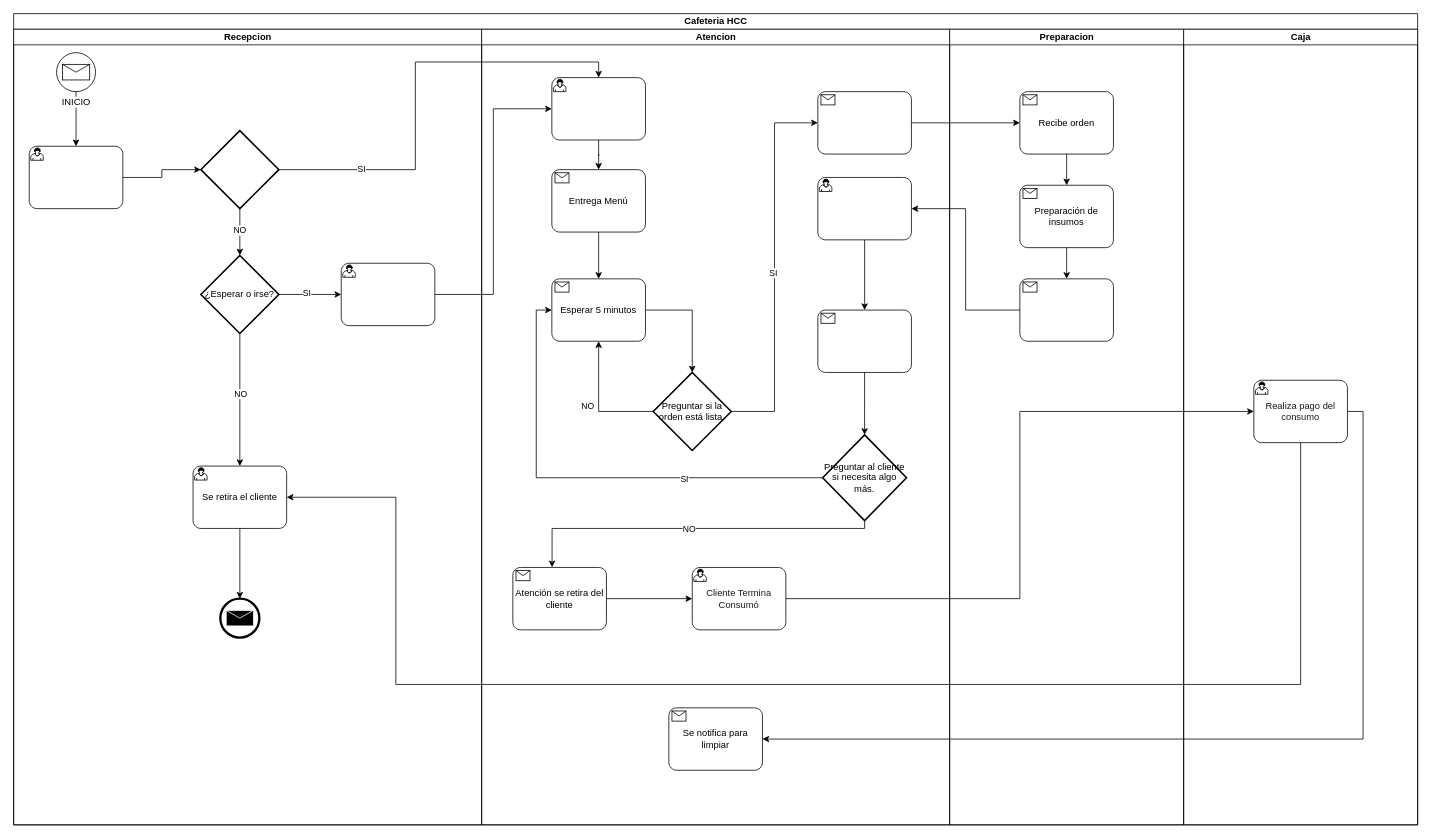
This 1431x838 diagram has some shape labels left out. Each missing label, with the centre of its shape:
Asignar mesa: the point at 598,108
Cliente llega a la cafetería.: the point at 75,177
Entrega orden a cliente: the point at 864,208
Espera cliente a liberar especio: the point at 387,294
Esperar 20 minutos: the point at 864,340
FIn: the point at 239,618
Levantar orden: the point at 864,122
Notificar a atención que la orden está lista.: the point at 1066,309
Verificar disponibilidad de lugares.: the point at 239,169
